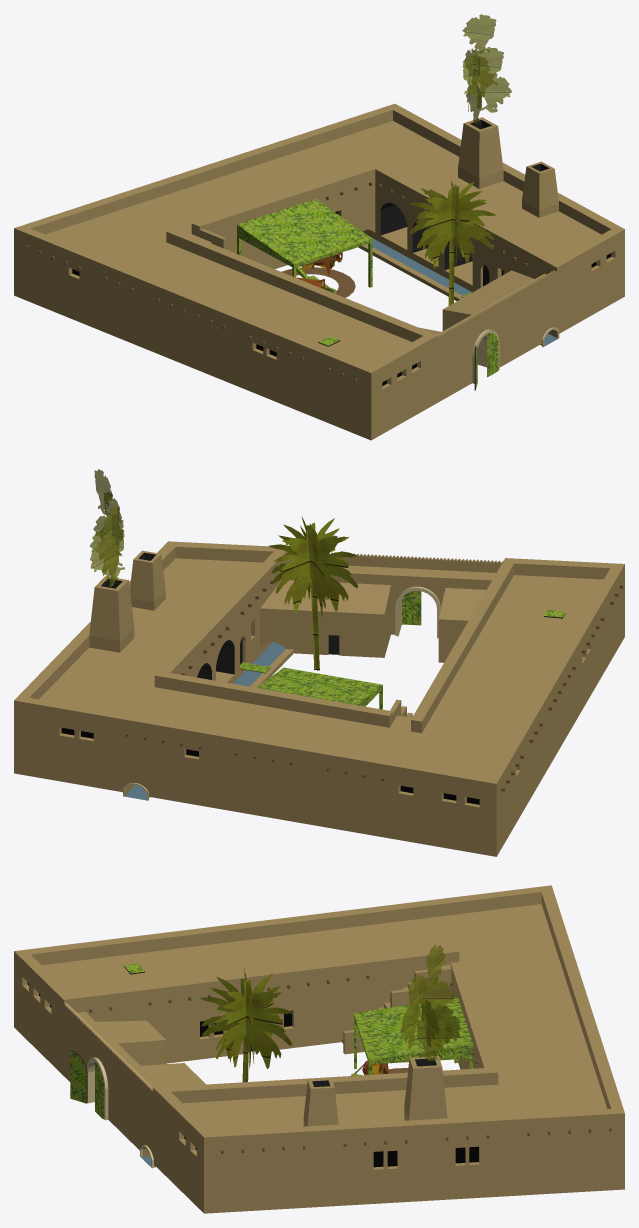
Rendered from Birscha_Schmiede.dae.
The picture shows the model from 3 angles, top to bottom: view 1: azimuth 30°, elevation 25°; view 2: azimuth 150°, elevation 25°; view 3: azimuth 270°, elevation 25°; orthographic projection. The views are drawn at different scales.
Parts seen in each view (by area): view 1: Model, Component_5, Group_15 (×3), Kamin; view 2: Model, Component_5, Kamin, Group_15 (×2); view 3: Model, Group_15 (×7), Component_5, Treppe, Kamin.
Part boxes in pixels (box(x1,y1,x2,y2)): Model: box(14, 103, 624, 440); Component_5: box(409, 179, 496, 305); Group_15 (×3): box(462, 14, 511, 112); Kamin: box(522, 161, 558, 217); Model: box(14, 541, 624, 856); Component_5: box(269, 516, 357, 670); Kamin: box(130, 550, 165, 610); Group_15 (×2): box(90, 513, 124, 578); Model: box(14, 885, 624, 1213); Group_15 (×7): box(400, 944, 460, 1060); Component_5: box(200, 968, 292, 1082); Treppe: box(342, 965, 451, 1054); Kamin: box(303, 1078, 338, 1126).
Size of the model in its own units: 43.21 by 44.18 by 19.9.
